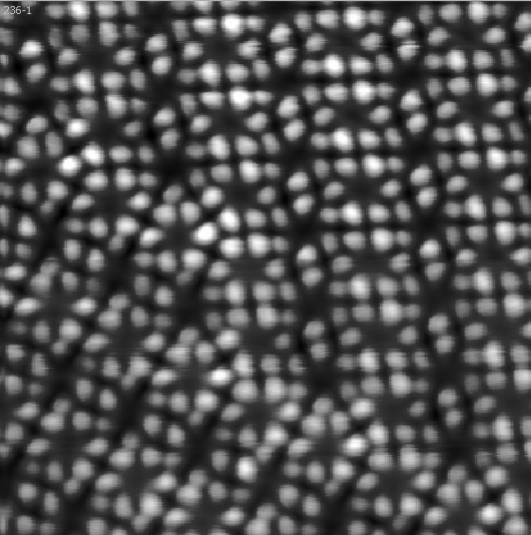L: (83, 305, 166, 379), (13, 271, 98, 343), (28, 409, 109, 484), (220, 377, 303, 450), (332, 226, 411, 302), (312, 79, 392, 154), (55, 21, 136, 95), (95, 446, 177, 519), (69, 167, 152, 239), (454, 218, 531, 295), (64, 92, 143, 167), (189, 85, 268, 160), (181, 13, 261, 87), (446, 146, 524, 221), (341, 299, 419, 374), (153, 341, 233, 414), (5, 130, 81, 206), (436, 73, 515, 146), (140, 201, 219, 274), (357, 445, 436, 518), (199, 160, 276, 234), (350, 372, 428, 445), (427, 1, 506, 73), (289, 412, 368, 484), (208, 233, 286, 305), (305, 6, 384, 77), (324, 153, 401, 225), (216, 305, 293, 377), (464, 293, 531, 369), (473, 369, 531, 442)
R: (136, 127, 210, 206), (421, 408, 495, 486), (411, 333, 483, 410), (127, 53, 199, 129), (382, 112, 454, 188), (278, 266, 351, 340), (270, 192, 342, 267), (232, 444, 303, 520), (153, 270, 225, 344), (287, 341, 359, 415), (402, 259, 473, 334), (164, 411, 232, 489), (252, 45, 324, 118), (15, 200, 86, 274), (374, 38, 445, 112), (27, 339, 97, 413), (394, 186, 464, 260), (261, 118, 330, 193), (84, 236, 155, 308), (1, 62, 71, 134), (97, 374, 165, 448), (40, 479, 109, 535), (1, 1, 64, 59)
